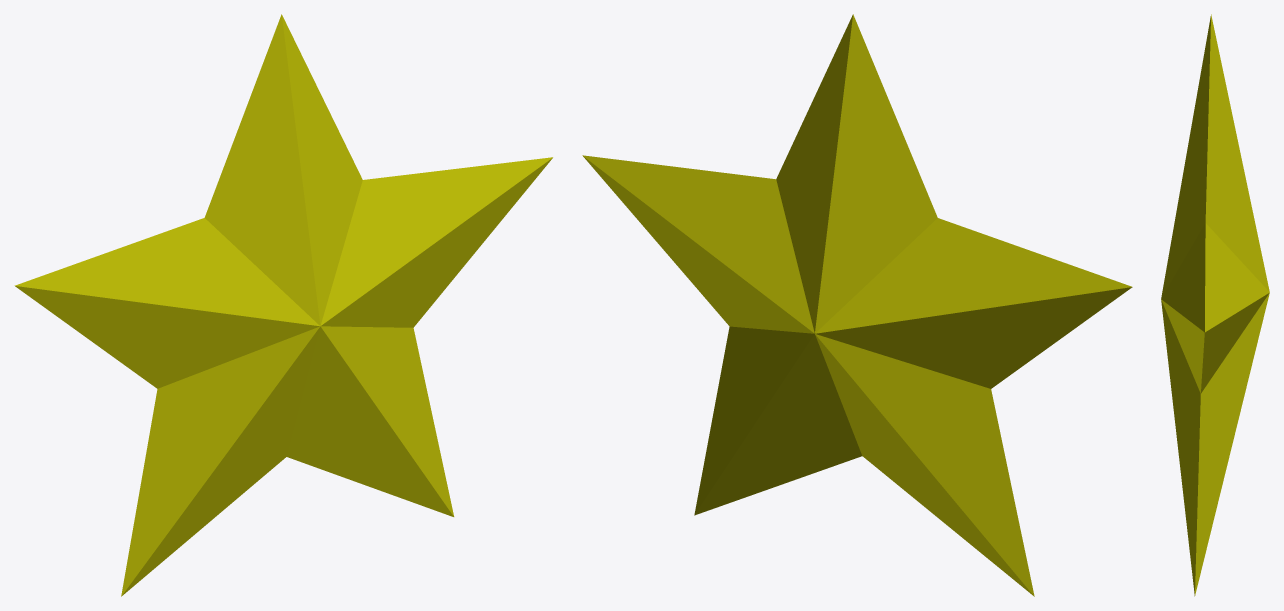
The picture shows the model from 3 angles, left to right: view 1: azimuth 30°, elevation 25°; view 2: azimuth 150°, elevation 25°; view 3: azimuth 270°, elevation 25°; orthographic projection. The views are drawn at different scales.
Parts seen in each view (by area): view 1: Círculo_Círculo.002; view 2: Círculo_Círculo.002; view 3: Círculo_Círculo.002.
Part boxes in pixels (x1,y1,x2,y2): Círculo_Círculo.002: (14, 14, 552, 596); Círculo_Círculo.002: (582, 14, 1132, 596); Círculo_Círculo.002: (1161, 14, 1269, 596).
Size of the model in its own units: 1.9 by 1.81 by 0.352.
